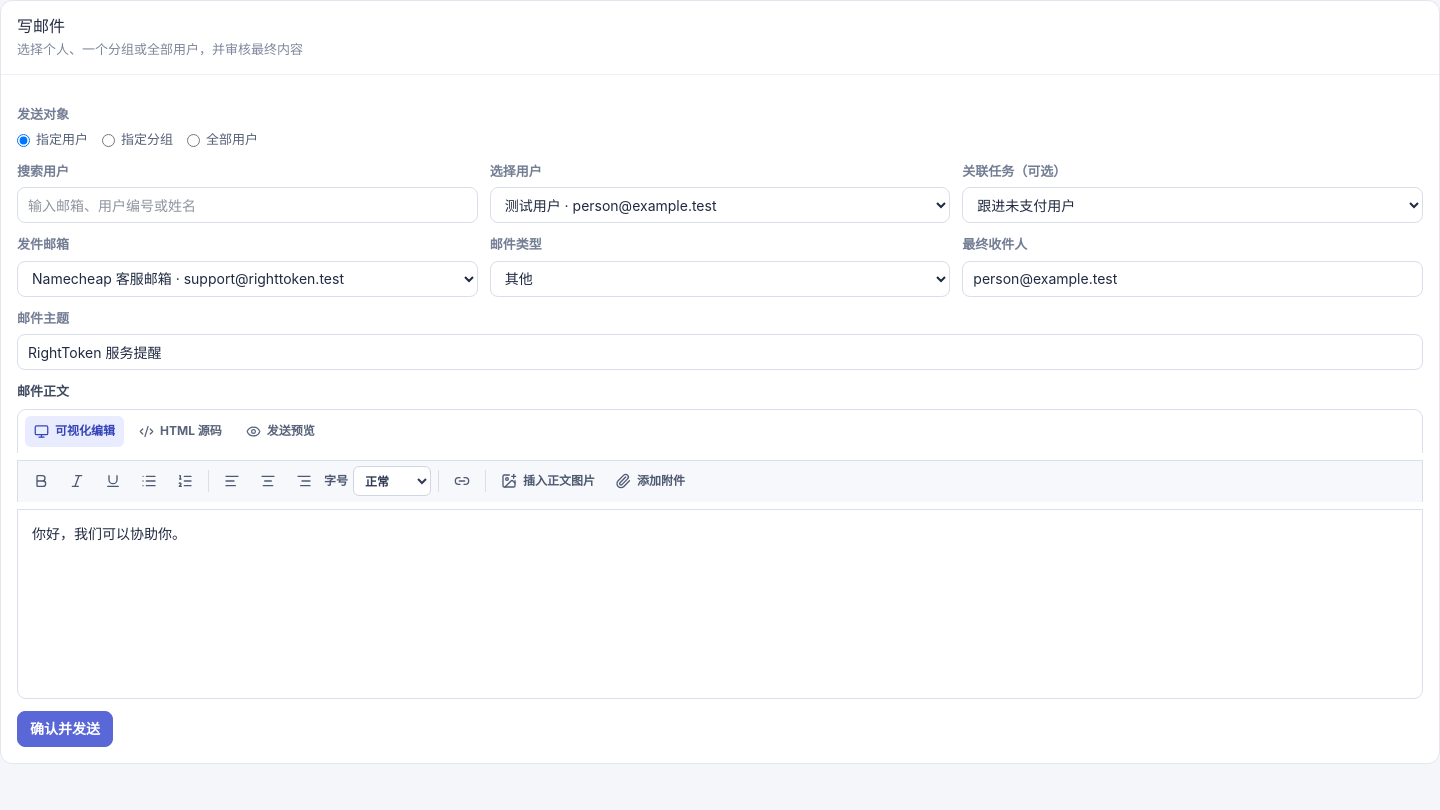
Scenario: MailComposer › switches to one segment without exposing a recipient field
Click the radio button labelled "指定分组": (108, 140) [102,134,115,147]
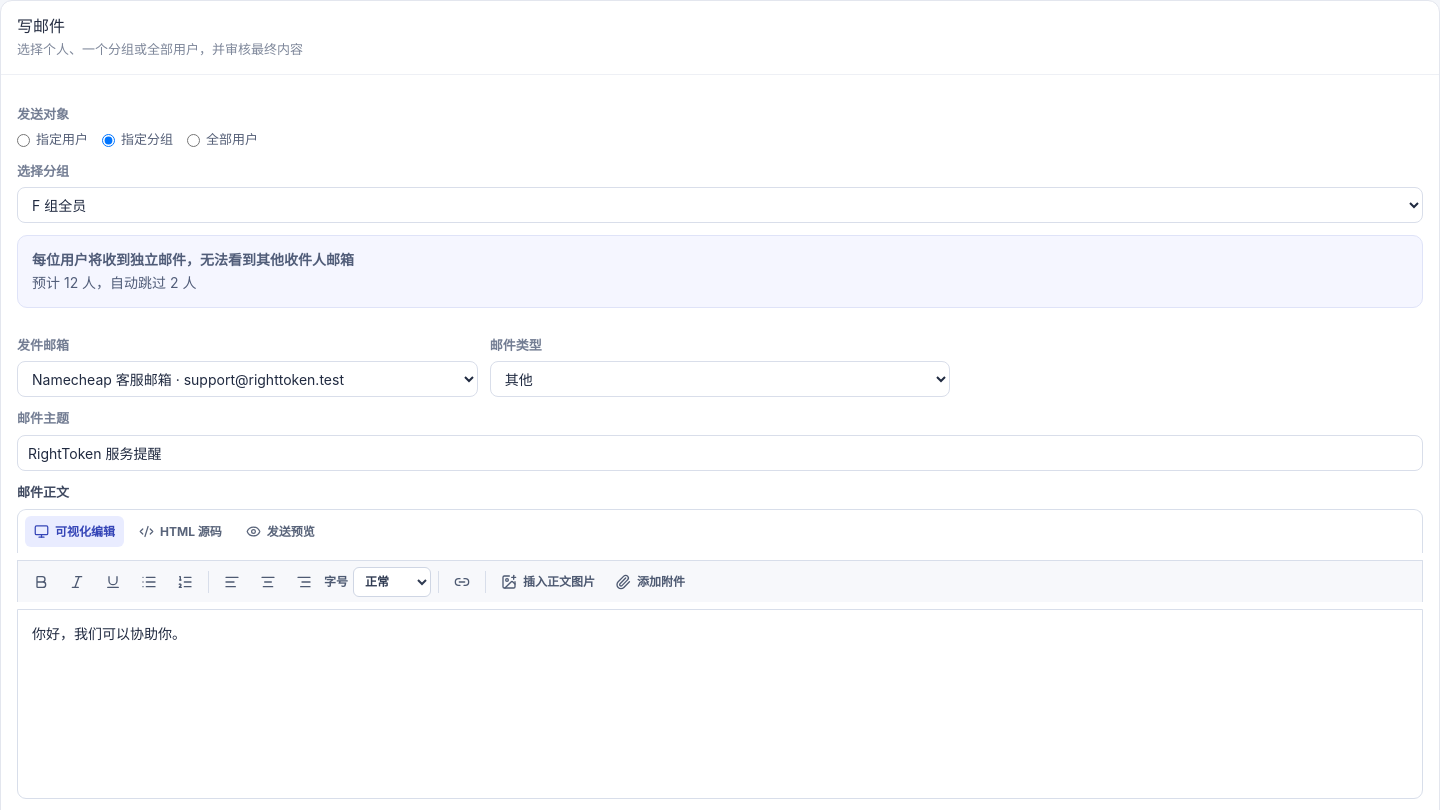
Expected: the dropdown labelled "选择分组" is shown, [17,187,1423,223]
Expected: the label labelled "最终收件人" is gone
Expected: the text "每位用户将收到独立邮件，无法看到其他收件人邮箱" is shown, [32,251,354,268]
